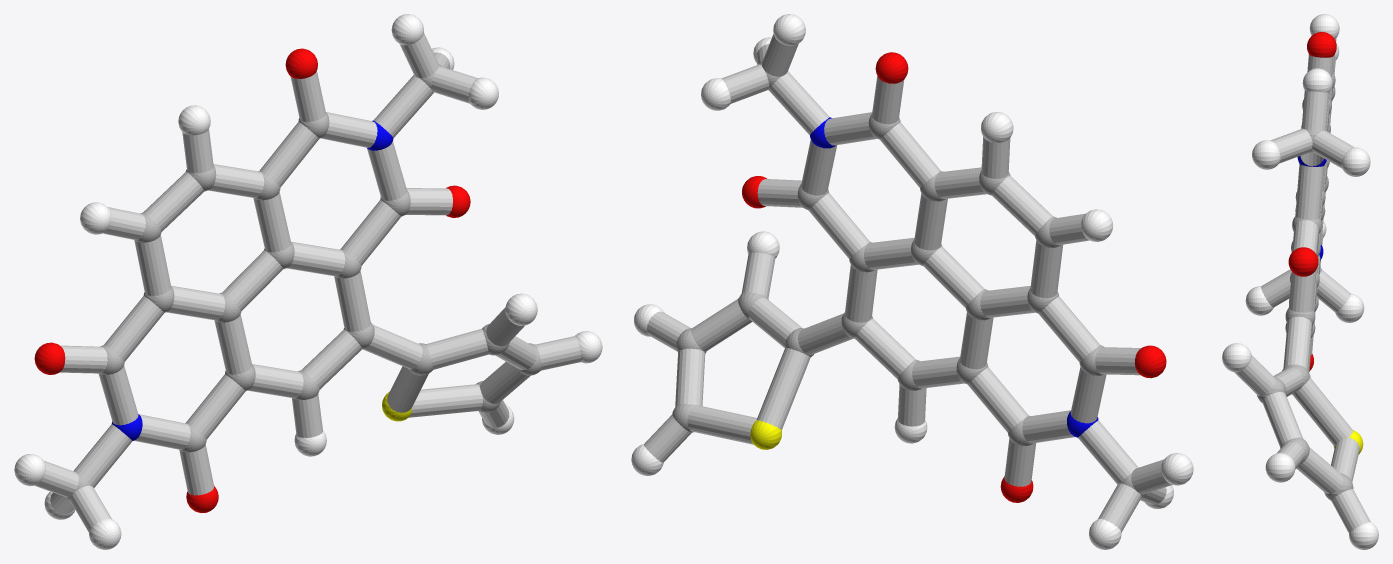
File: Dimethyl_Naphthalene_Dicarboximide_Phi_15_Theta_40_Thiophene.glb
3 renders of one model, left to right at view 1: azimuth 30°, elevation 25°; view 2: azimuth 150°, elevation 25°; view 3: azimuth 270°, elevation 25°, orthographic. The views are drawn at different scales.
Visible parts, largest first — view 1: grp14119, grp7241, grp1, grp12309, grp11585; view 2: grp14119, grp7241, grp1, grp12309, grp13757, grp11585; view 3: grp14119, grp7241, grp1, grp12309.
Boxes of the visible parts, x1,y1,x2,y2 form: grp14119: (35, 33, 581, 532); grp7241: (14, 14, 602, 549); grp1: (65, 63, 541, 501); grp12309: (34, 48, 470, 512); grp11585: (111, 120, 393, 440); grp14119: (644, 34, 1172, 532); grp7241: (631, 14, 1193, 549); grp1: (672, 61, 1146, 497); grp12309: (742, 52, 1166, 502); grp13757: (750, 420, 781, 449); grp11585: (810, 117, 1098, 437); grp14119: (1234, 38, 1370, 533); grp7241: (1222, 14, 1378, 549); grp1: (1257, 73, 1353, 500); grp12309: (1288, 32, 1336, 371).
Size of the model in its own units: 12.1 by 9.47 by 3.15.
